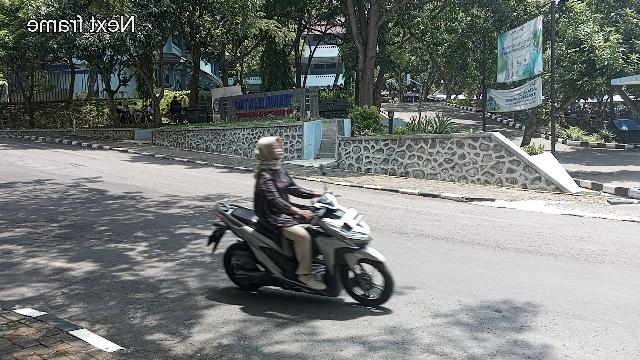motor: (207, 164, 396, 308)
non-helm: (255, 135, 288, 166)
